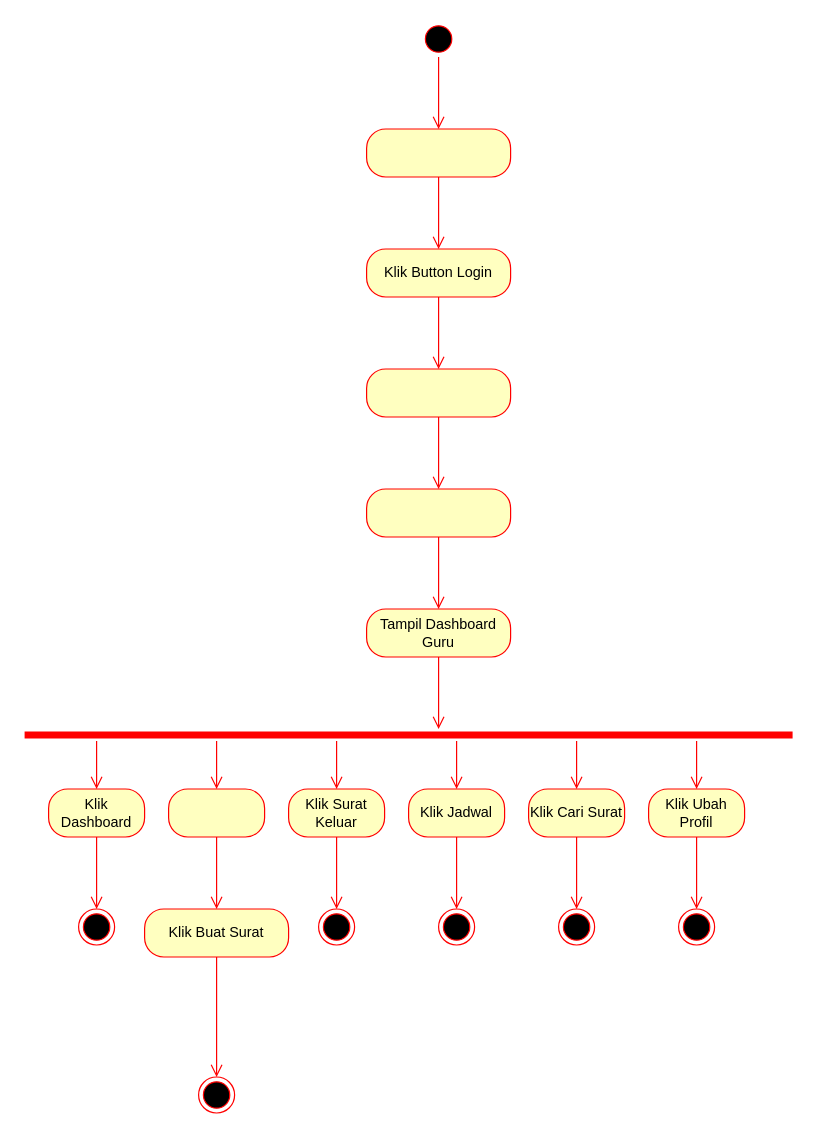
Some shapes in this 816 by 1134 pixel diagram are drawn without their labels. Each missing label, with the box of its shape:
Halaman Login: (365, 368, 511, 417)
Input Email dan Password: (365, 488, 511, 537)
Klik Surat Masuk: (167, 788, 265, 837)
Masukan URL: (365, 128, 511, 177)
